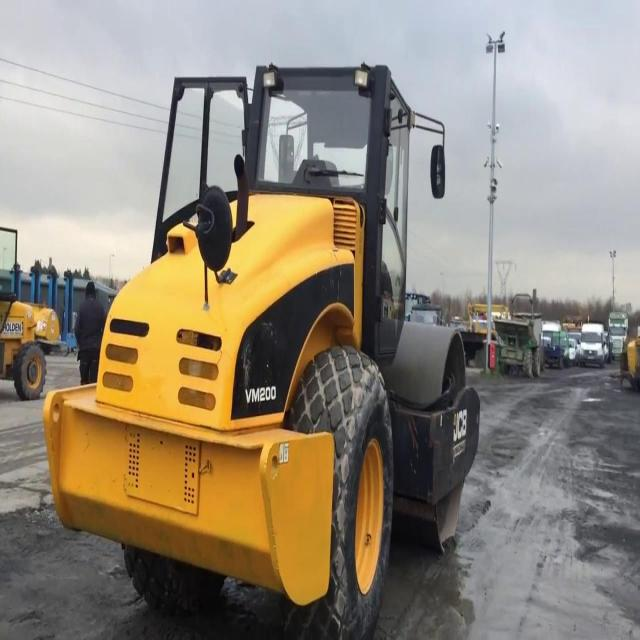Dump Truck: (494, 300, 546, 380)
Roller: (50, 64, 480, 625)
